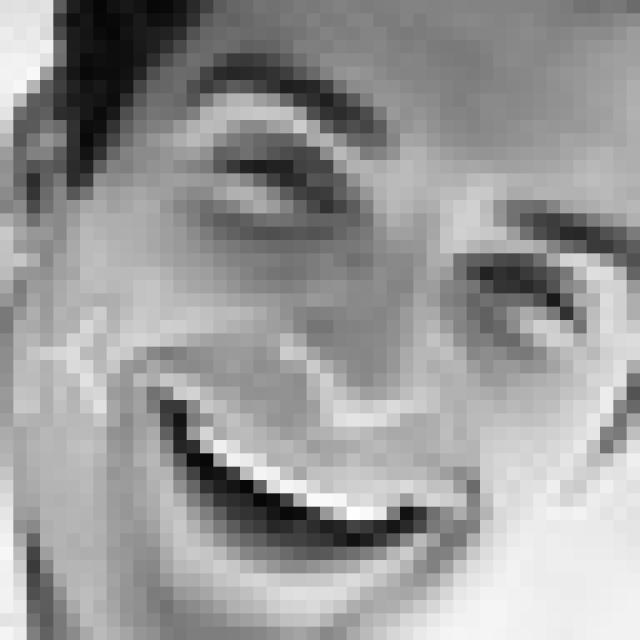happy: (83, 53, 640, 634)
